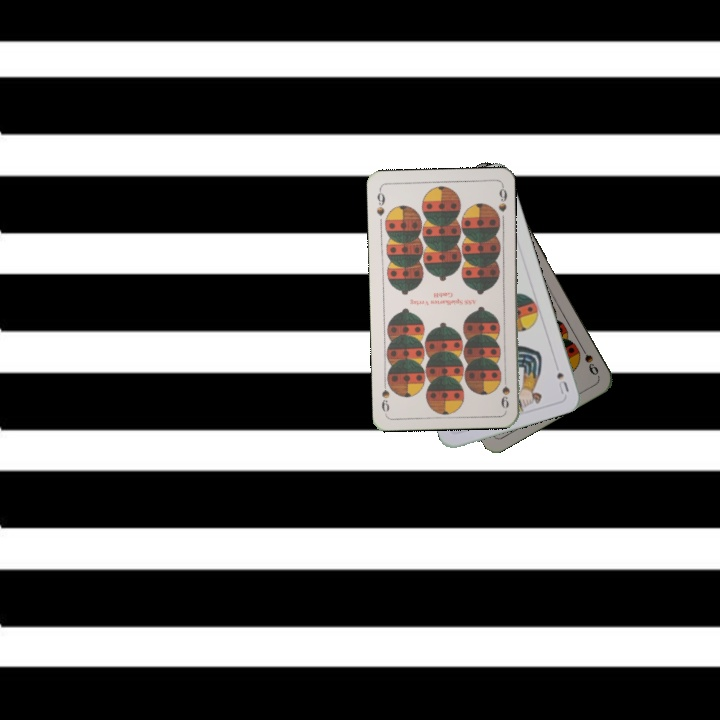S9: (576, 341, 601, 378), (497, 371, 512, 411), (372, 185, 388, 218)
SU: (552, 368, 571, 397)
